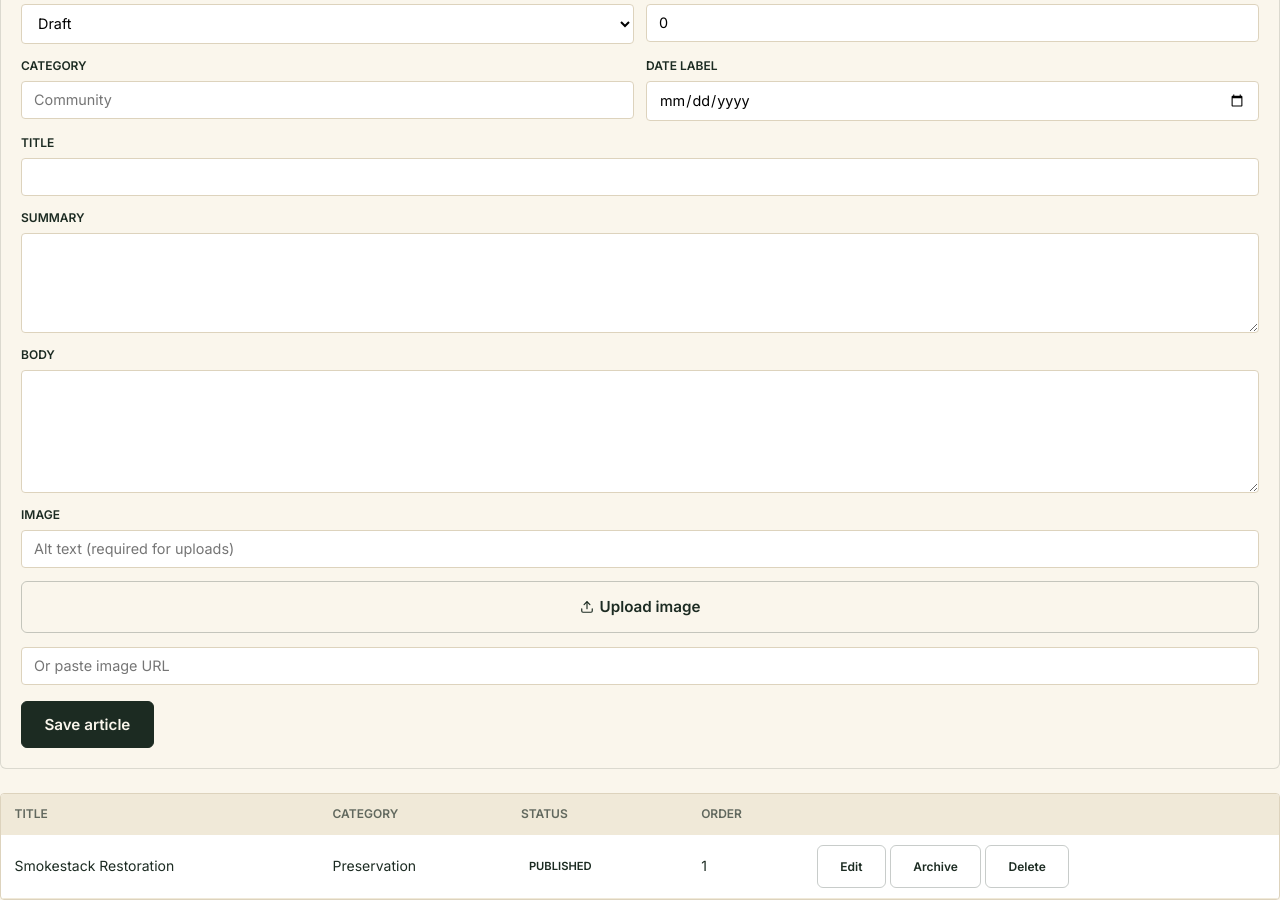
Test: NewsPanel › starts edit when Edit is clicked
(page scrolled)
Expected: the text "Smokestack Restoration" is shown, [1, 834, 319, 899]
Click the button "Edit". click: click(851, 866)
box: [817, 845, 886, 888]
(page scrolled)
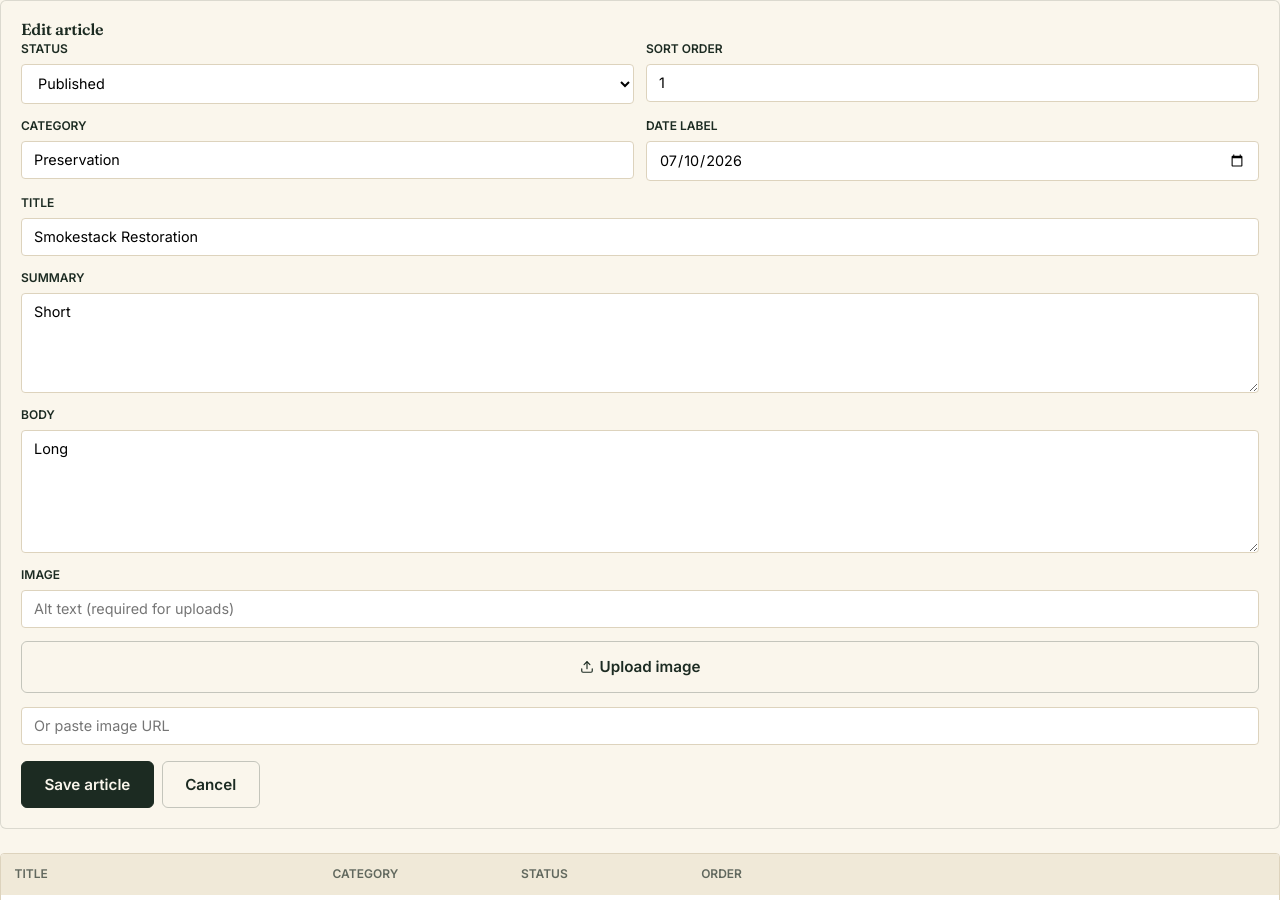
Expected: the heading "Edit article" is shown, [21, 19, 103, 39]
Expected: the 2nd field showing "Smokestack Restoration" is shown, [21, 218, 1259, 256]
